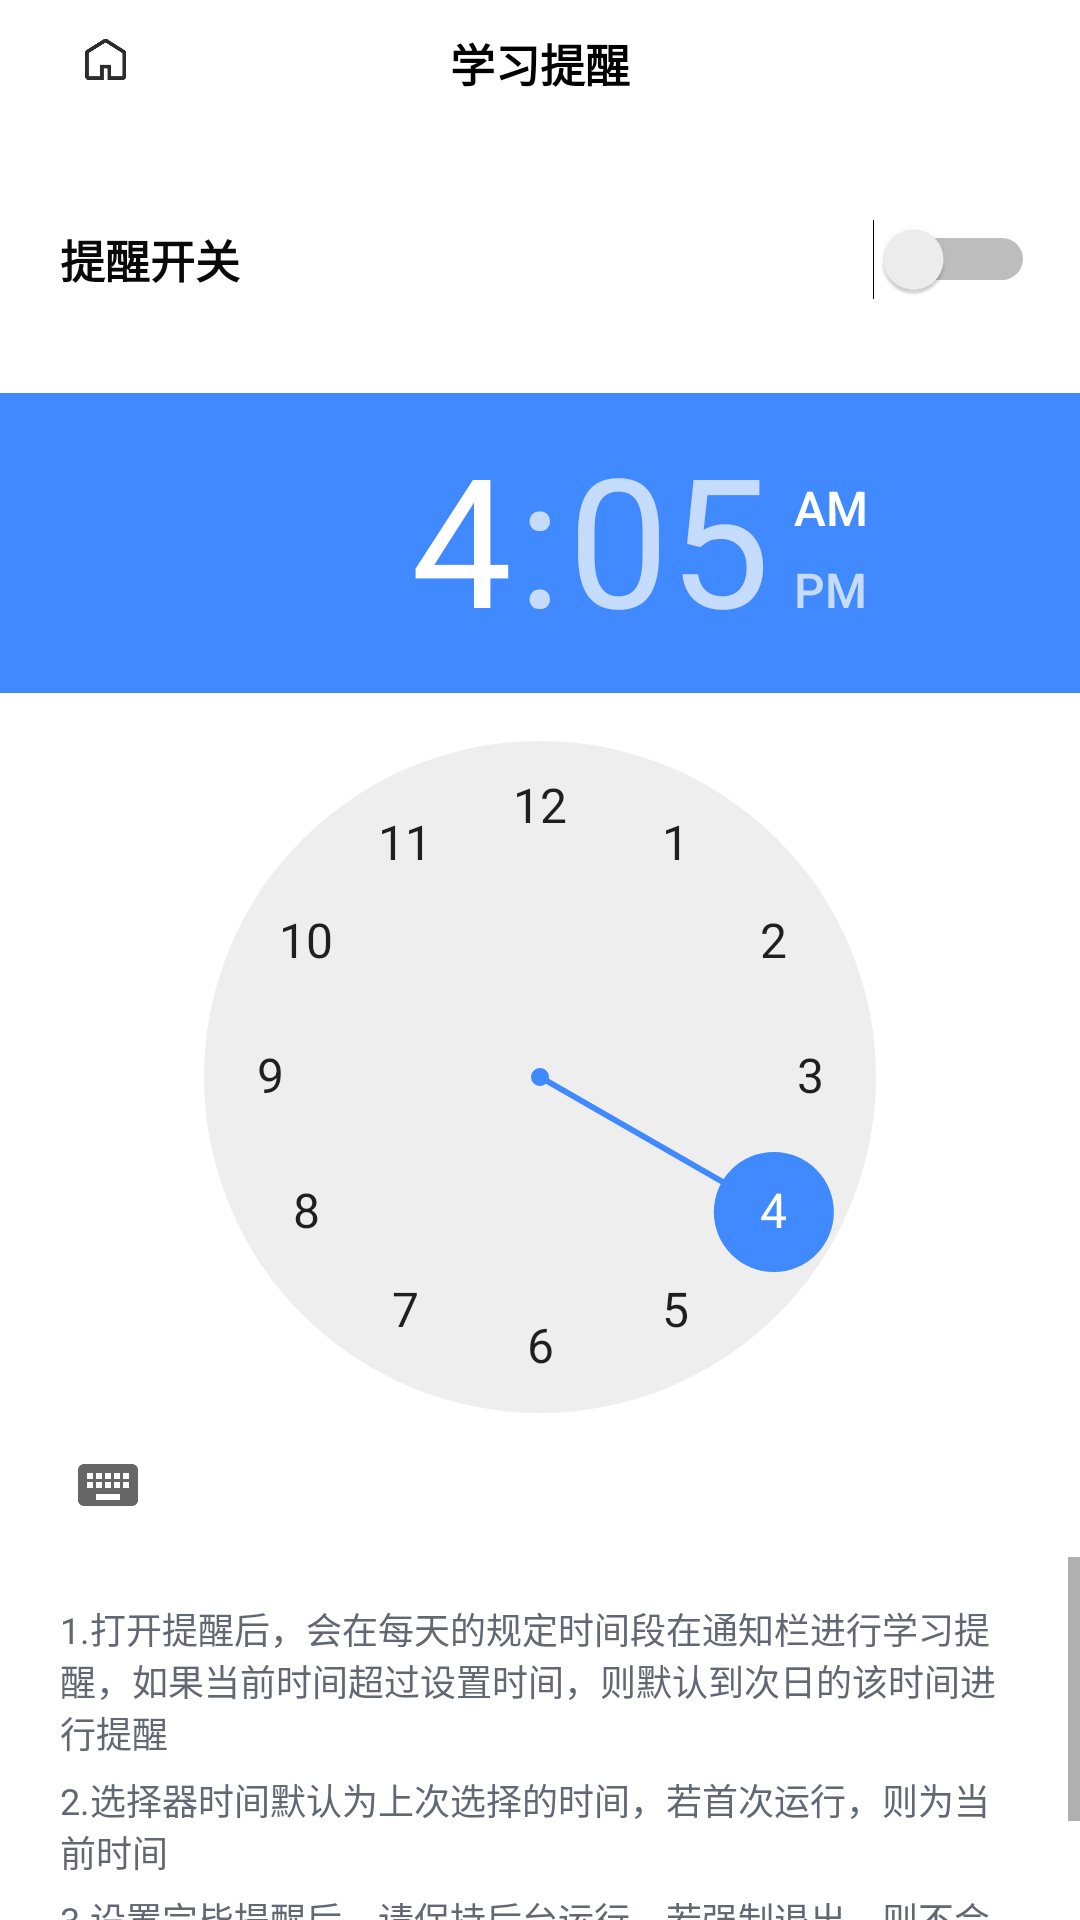

Locate icon controls on the screen. Image size 1080×1920, boxes as (x1, y1, x2, y2).
home: (85, 39, 126, 80)
